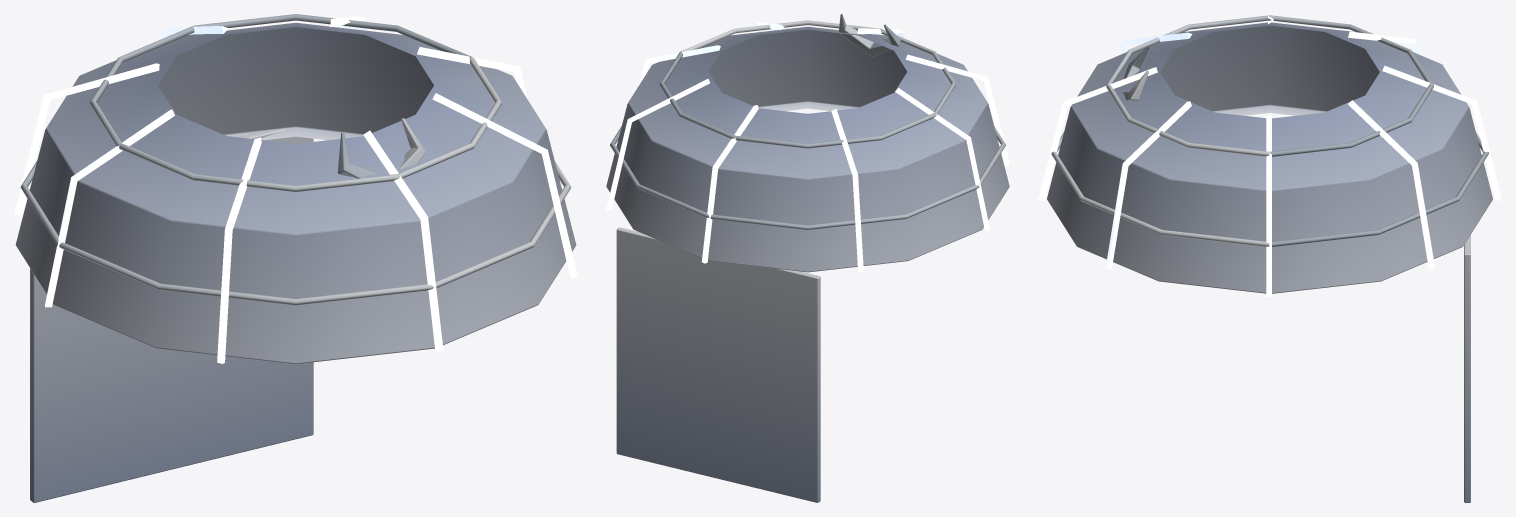
Rendered from lg_moonsilk_mantle.glb.
3 renders of one model, left to right at view 1: azimuth 30°, elevation 25°; view 2: azimuth 150°, elevation 25°; view 3: azimuth 270°, elevation 25°, orthographic. The views are drawn at different scales.
Parts seen in each view (by area): view 1: lg_moonsilk_mantle, lg_moonsilk_mantle_glow; view 2: lg_moonsilk_mantle, lg_moonsilk_mantle_glow; view 3: lg_moonsilk_mantle, lg_moonsilk_mantle_glow.
Boxes of the visible parts, x1,y1,x2,y2 form: lg_moonsilk_mantle: (15, 14, 576, 502); lg_moonsilk_mantle_glow: (14, 16, 577, 363); lg_moonsilk_mantle: (606, 14, 1009, 502); lg_moonsilk_mantle_glow: (606, 22, 1009, 271); lg_moonsilk_mantle: (1047, 15, 1492, 502); lg_moonsilk_mantle_glow: (1038, 14, 1501, 296).
Bounding box in the file's own units: 2.7 × 2.5 × 2.7.
